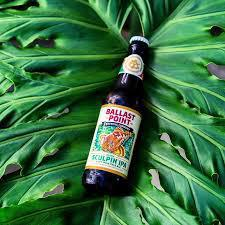beer: (81, 37, 150, 195)
